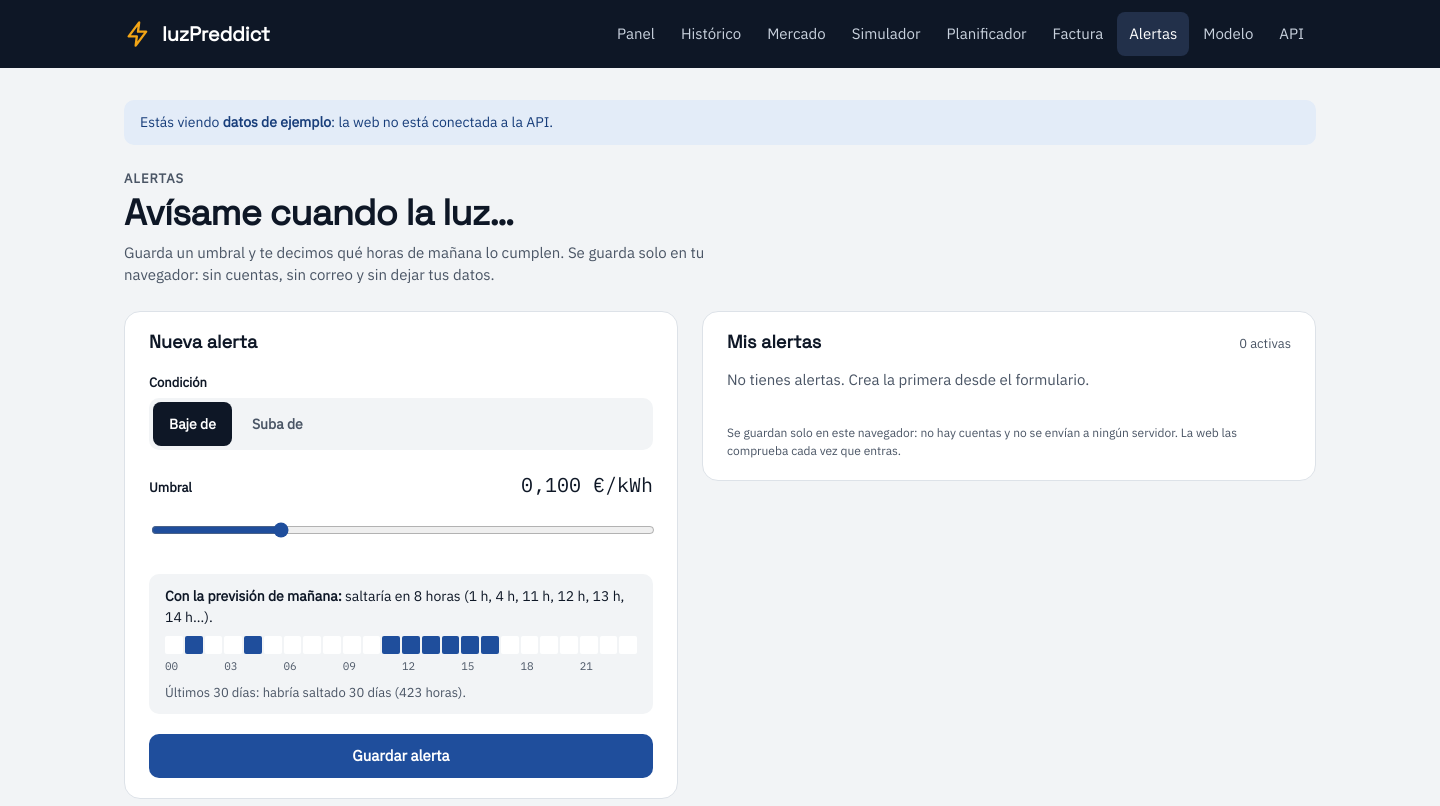
Test: Alertas › avisa si el navegador no deja guardar
Expected: the element "Nueva alerta" is shown, [124,311,678,799]
Click the button "Guardar alerta": (401, 756) [149,734,653,778]
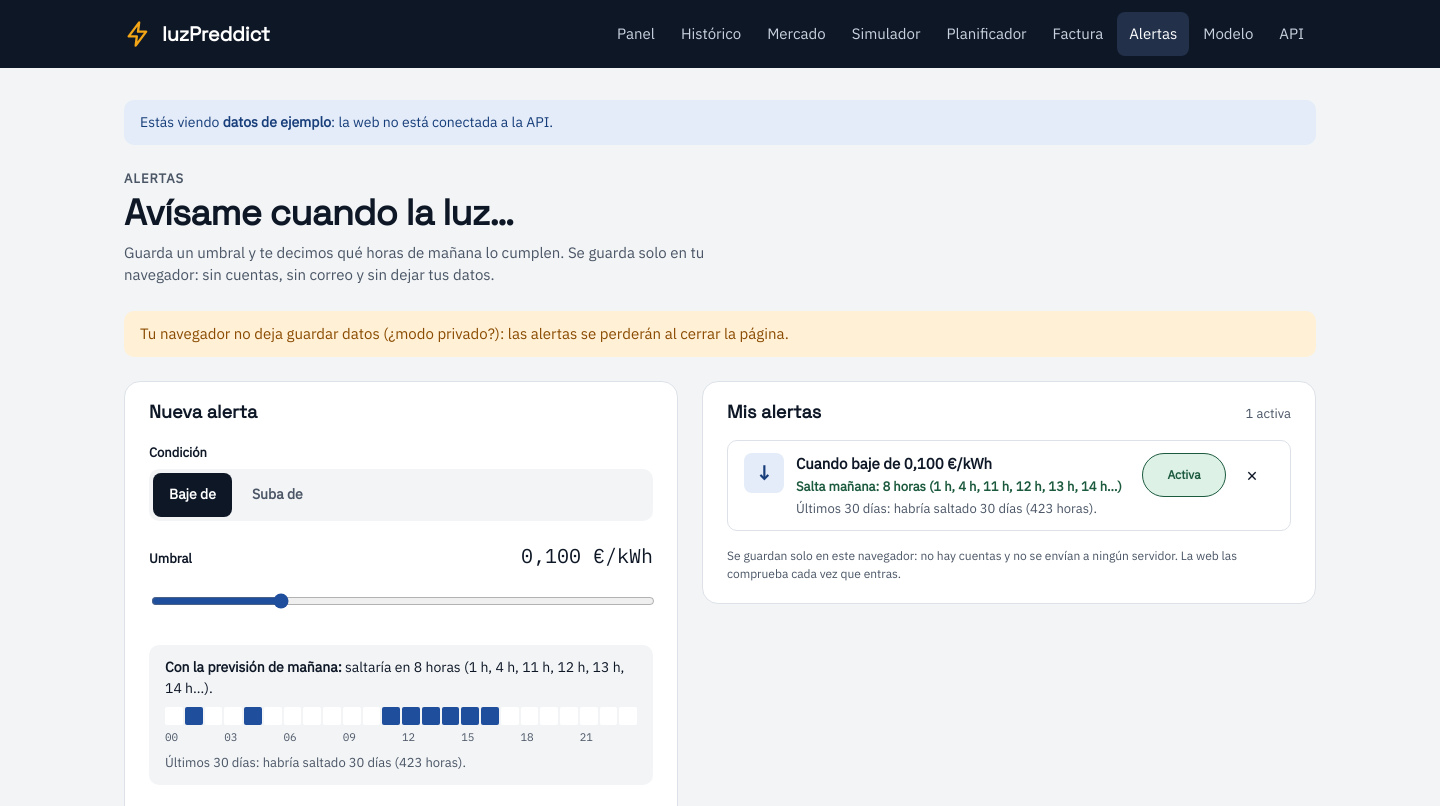
Expected: the 2nd message shows "Tu navegador no deja guardar datos", [140,324,789,343]
